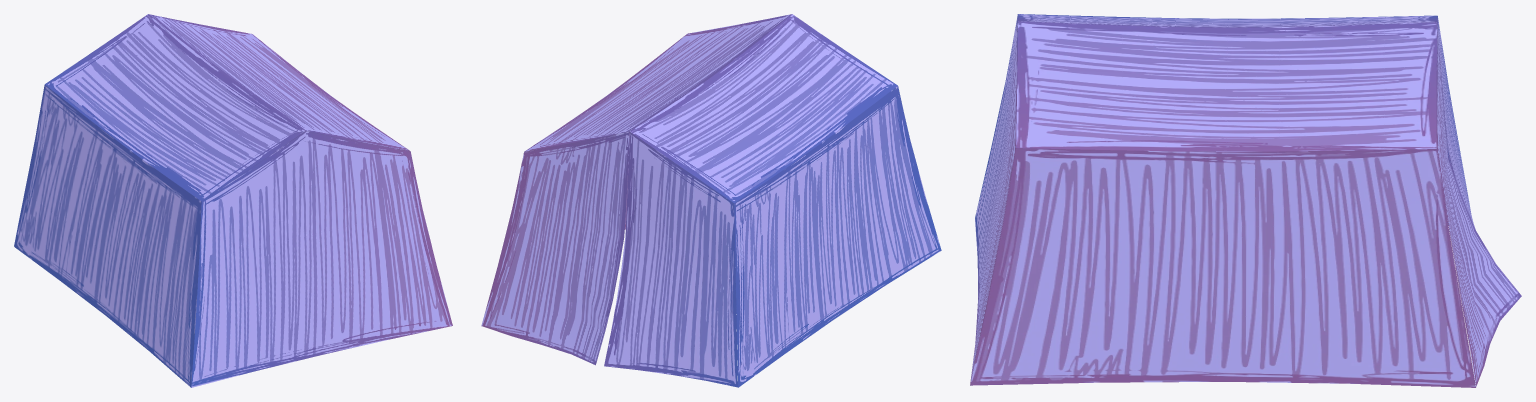
The model's file is tent2_2024.glb.
3 renders of one model, left to right at view 1: azimuth 30°, elevation 25°; view 2: azimuth 150°, elevation 25°; view 3: azimuth 270°, elevation 25°, orthographic. The views are drawn at different scales.
Visible parts, largest first — view 1: Tente2_2024; view 2: Tente2_2024; view 3: Tente2_2024.
Boxes of the visible parts, <box> form: Tente2_2024: <box>14,14,452,387</box>; Tente2_2024: <box>481,14,941,387</box>; Tente2_2024: <box>970,14,1521,387</box>.
Size of the model in its own units: 3.83 by 2.96 by 5.27.
1 material, 1 textured.
